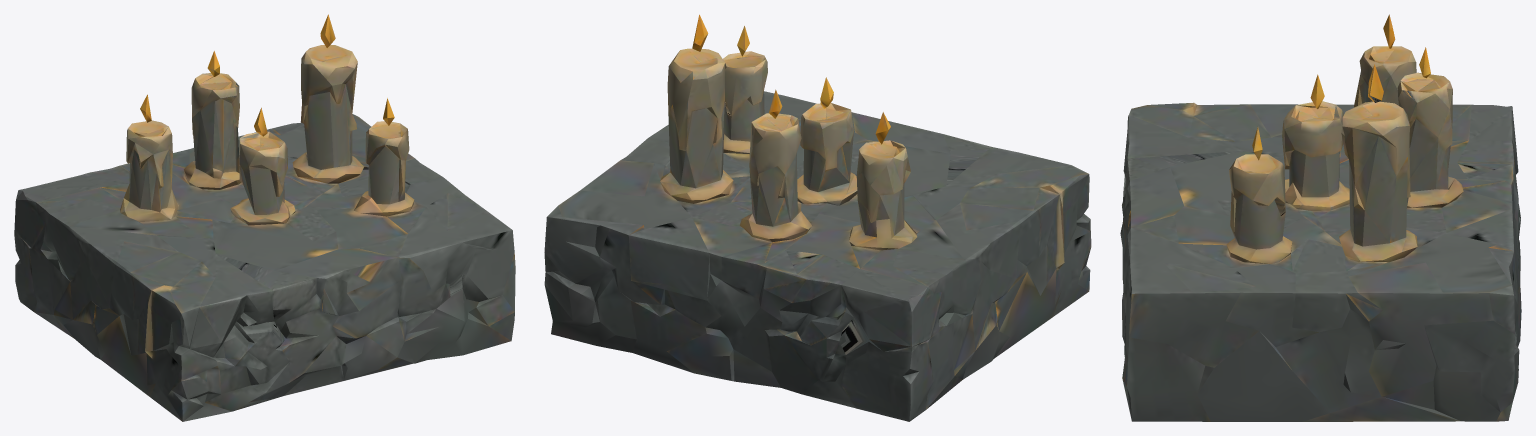
Rendered from candles-stone.low.glb.
3 renders of one model, left to right at view 1: azimuth 30°, elevation 25°; view 2: azimuth 150°, elevation 25°; view 3: azimuth 270°, elevation 25°, orthographic. The views are drawn at different scales.
Parts seen in each view (by area): view 1: output_unwrapped; view 2: output_unwrapped; view 3: output_unwrapped.
Boxes of the visible parts, x1,y1,x2,y2 form: output_unwrapped: (14, 14, 515, 421); output_unwrapped: (544, 14, 1091, 421); output_unwrapped: (1120, 14, 1521, 421).
Bounding box in the file's own units: 1.9 × 1.43 × 1.66.
1 material, 1 textured.
